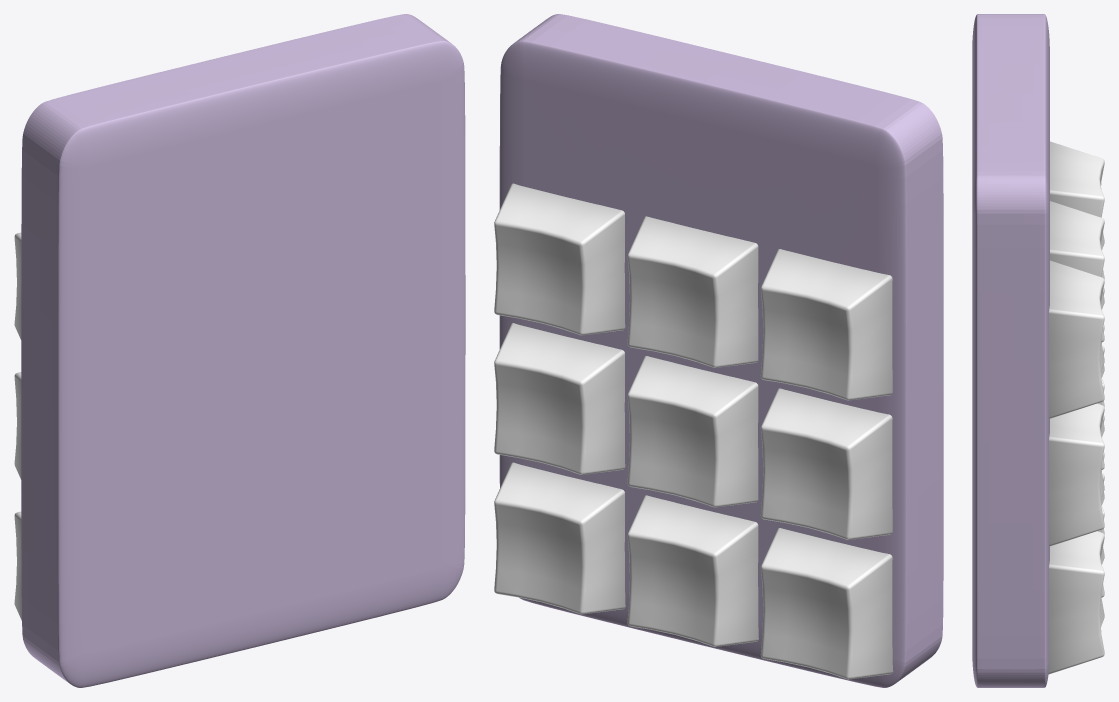
The model's file is keypad.fbx.
The picture shows the model from 3 angles, left to right: view 1: azimuth 30°, elevation 25°; view 2: azimuth 150°, elevation 25°; view 3: azimuth 270°, elevation 25°; orthographic projection. The views are drawn at different scales.
Visible parts, largest first — view 1: Cube.074; view 2: Cube.074, Cube.006, Cube.004, Cube.005, Cube.069, Cube.068, Cube.011, Cube.073, Cube.070, Cube.072; view 3: Cube.074, Cube.070, Cube.073, Cube.072, Cube.011, Cube.004.
Boxes of the visible parts, x1,y1,x2,y2 form: Cube.074: [21, 14, 465, 687]; Cube.074: [499, 14, 943, 687]; Cube.006: [760, 528, 893, 679]; Cube.004: [760, 249, 892, 400]; Cube.005: [760, 388, 892, 539]; Cube.069: [627, 495, 758, 646]; Cube.068: [627, 356, 758, 507]; Cube.011: [627, 216, 758, 367]; Cube.073: [494, 462, 625, 614]; Cube.070: [494, 183, 625, 335]; Cube.072: [494, 323, 625, 474]; Cube.074: [972, 14, 1049, 687]; Cube.070: [1049, 260, 1104, 418]; Cube.073: [1048, 531, 1104, 674]; Cube.072: [1049, 403, 1104, 546]; Cube.011: [1050, 201, 1104, 342]; Cube.004: [1050, 141, 1104, 279].
Size of the model in its own units: 123 by 163 by 37.94.
